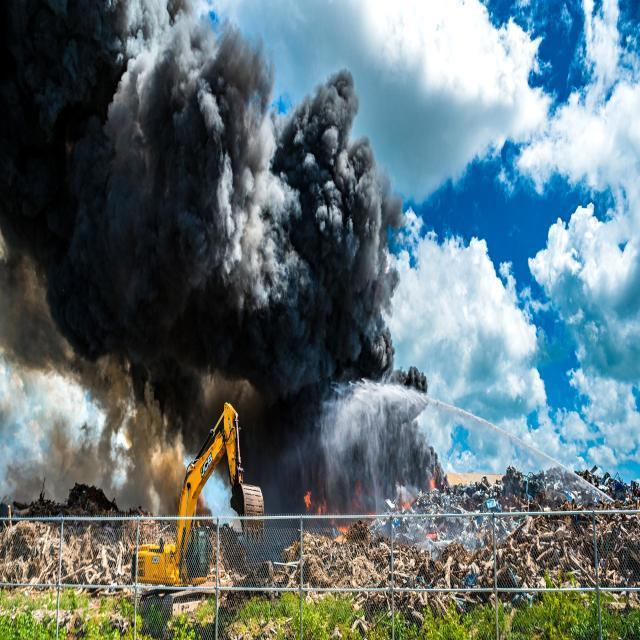Smoke: (2, 0, 418, 502)
